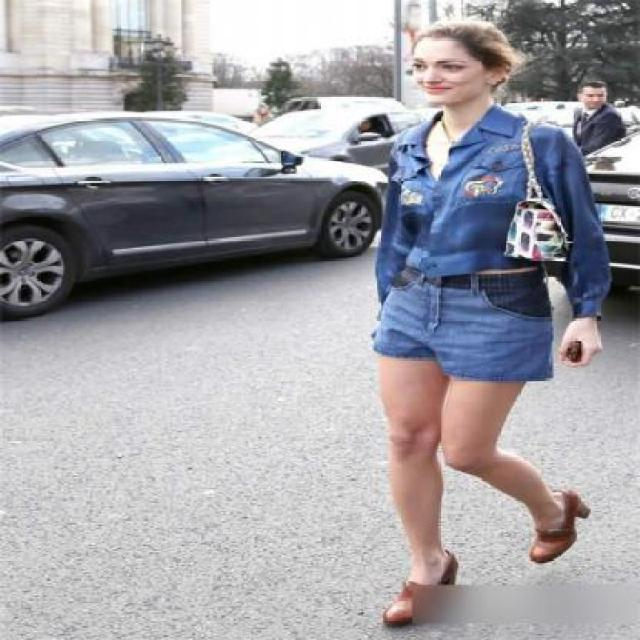Person: (273, 9, 639, 638)
